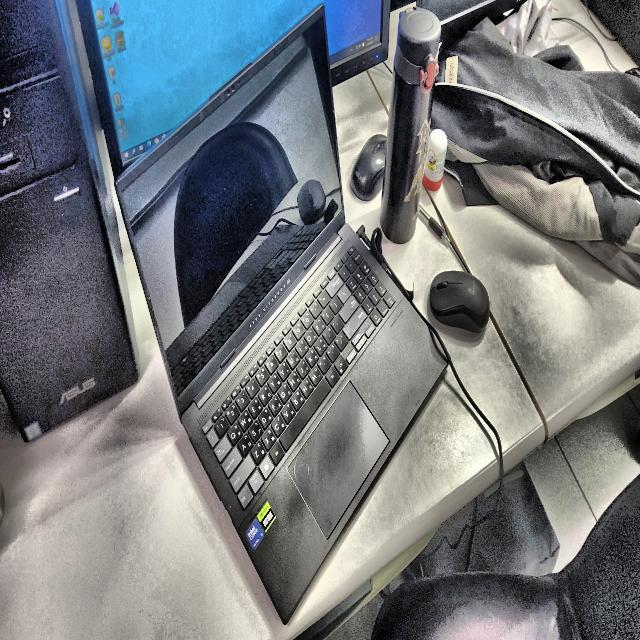laptop: (116, 9, 445, 623)
switchboard: (429, 271, 489, 332), (350, 134, 387, 200)
